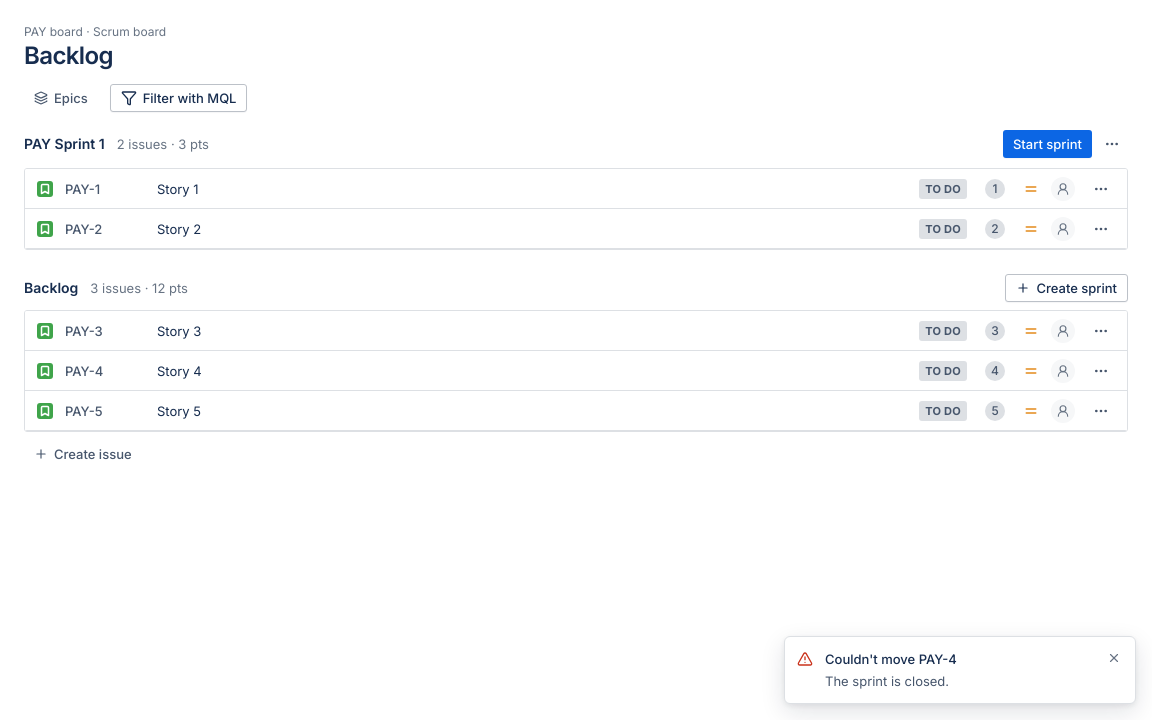
Test: filtering the board and backlog with MQL › filters the backlog, pauses ranking by drag, and shows a bad query's mistake
The width and height of the screenshot is (1152, 720).
Click the button "Filter with MQL" at (179, 98), box x1=110 y1=84 x2=248 y2=112
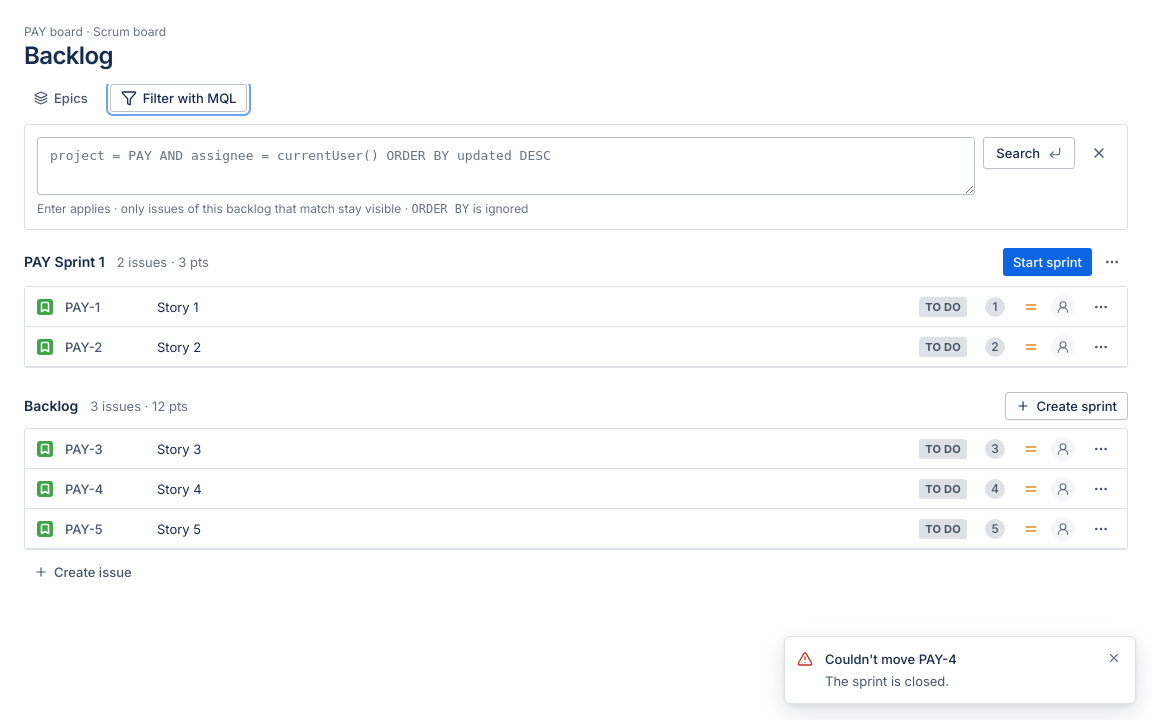
Type "stauts = done" into the dropdown named "MQL query" at (506, 166), box x1=37 y1=137 x2=975 y2=195
Then press Enter
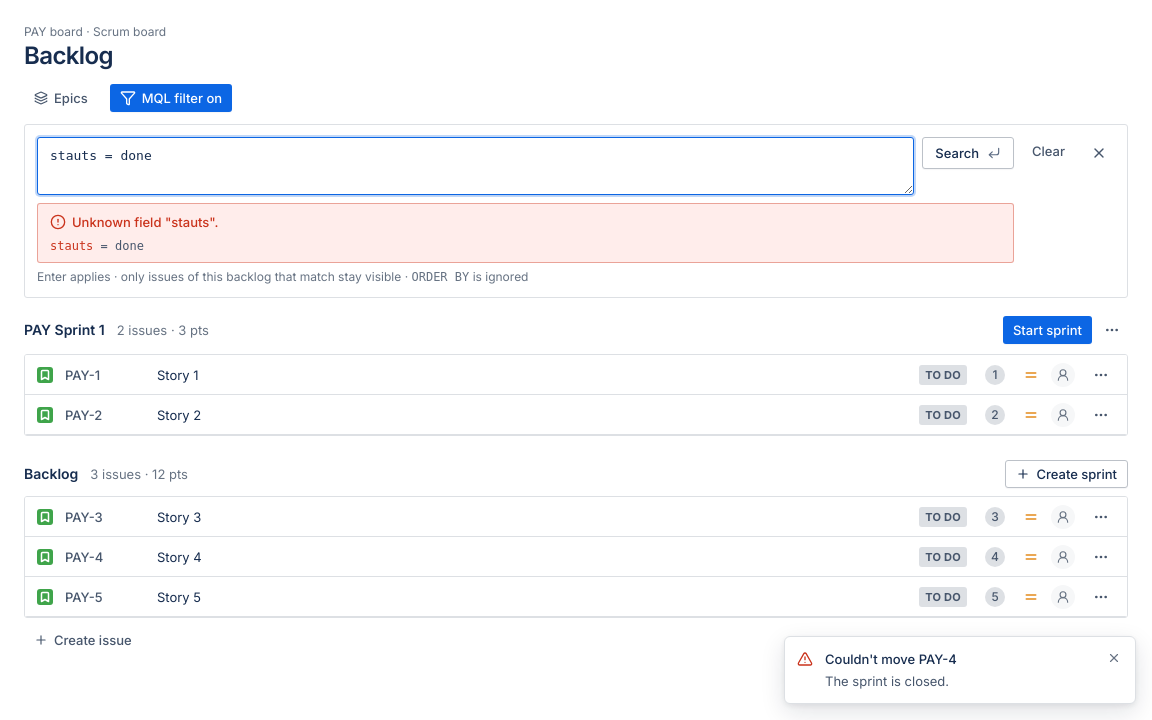
Expected: the number of links "PAY-3" is 3, x1=65 y1=508 x2=103 y2=524; x1=65 y1=548 x2=103 y2=564; x1=65 y1=588 x2=102 y2=604
Now the message shows "Unknown field \"stauts\".", box x1=72 y1=214 x2=218 y2=230
Replace the text in the dropdown named "MQL query" with "assignee is EMPTY" at (476, 166), box x1=37 y1=137 x2=914 y2=195
Then press Enter
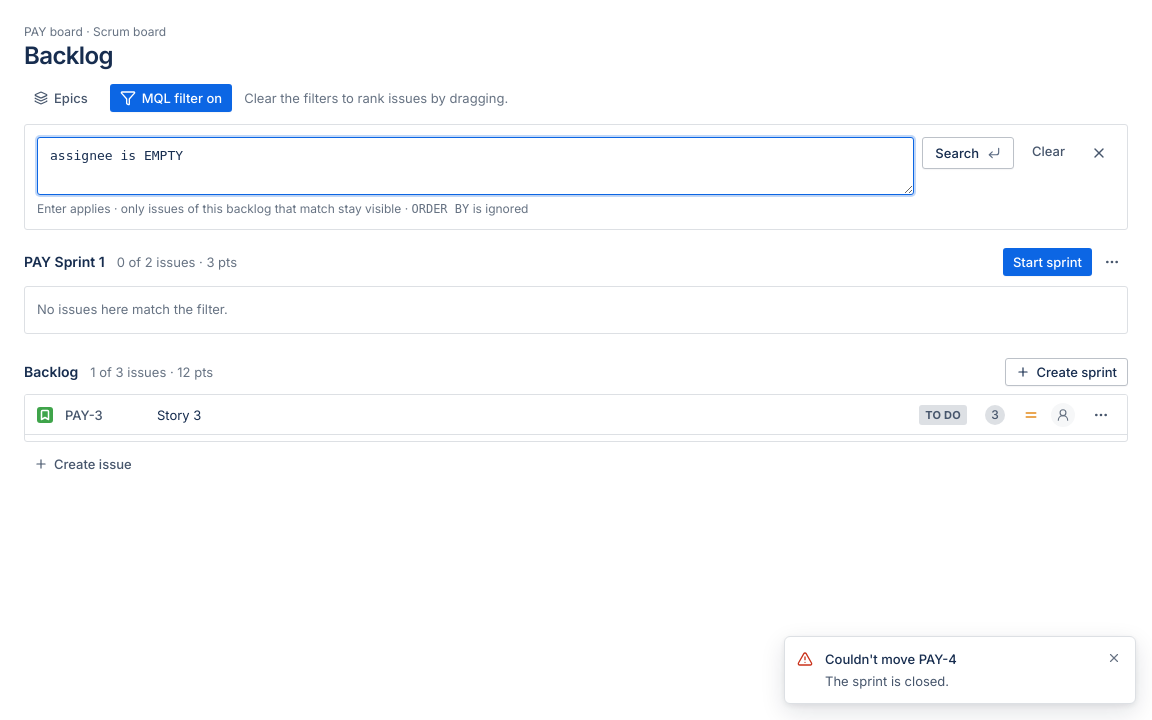
Now the text "1 of 3 issues · 12 pts" is shown, box x1=90 y1=362 x2=213 y2=382
Now the text "No issues here match the filter." is shown, box x1=37 y1=301 x2=228 y2=317
Now the text "Clear the filters to rank issues by dragging." is shown, box x1=244 y1=88 x2=508 y2=108
